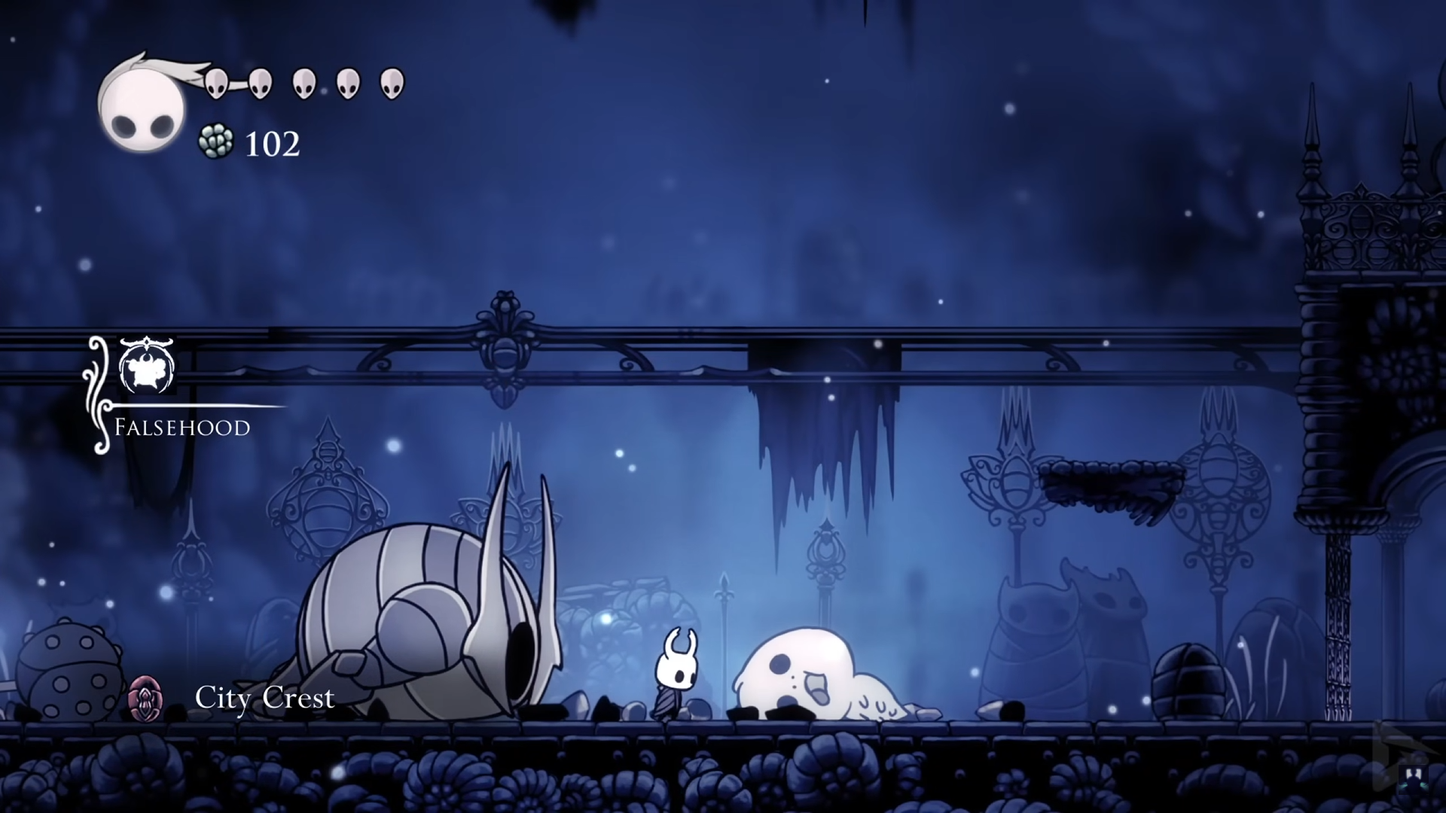HK: (649, 621, 703, 725)
